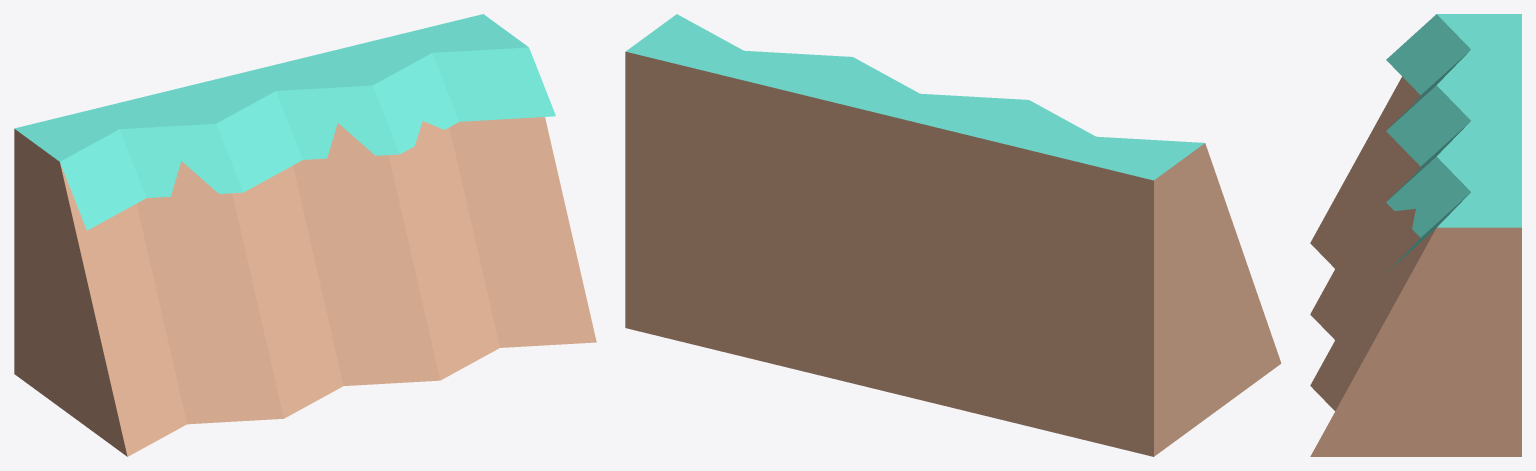
The model's file is cliff_half_rock.gltf.
The picture shows the model from 3 angles, left to right: view 1: azimuth 30°, elevation 25°; view 2: azimuth 150°, elevation 25°; view 3: azimuth 270°, elevation 25°; orthographic projection. The views are drawn at different scales.
Parts seen in each view (by area): view 1: cliff_half_rock; view 2: cliff_half_rock; view 3: cliff_half_rock.
Part boxes in pixels (x1,y1,x2,y2): cliff_half_rock: (14, 14, 596, 456); cliff_half_rock: (625, 14, 1281, 456); cliff_half_rock: (1310, 14, 1521, 456).
Bounding box in the file's own units: 1 × 0.5 × 0.4185.
